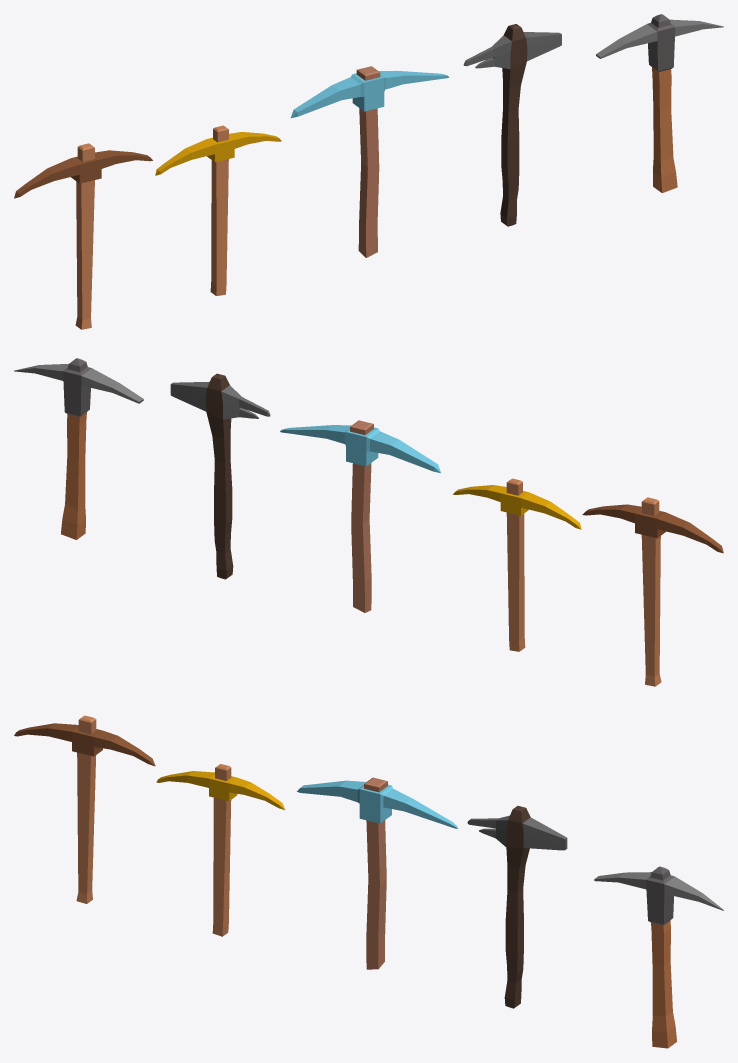
The model's file is Low Poly Pickaxes Pack.fbx.
The picture shows the model from 3 angles, top to bottom: view 1: azimuth 30°, elevation 25°; view 2: azimuth 150°, elevation 25°; view 3: azimuth 330°, elevation 25°; orthographic projection.
Visible parts, largest first — view 1: Pickaxe 5, Pickaxe 2, Pickaxe 1, Pickaxe 3, Pickaxe 4; view 2: Pickaxe 5, Pickaxe 2, Pickaxe 1, Pickaxe 3, Pickaxe 4; view 3: Pickaxe 5, Pickaxe 2, Pickaxe 1, Pickaxe 3, Pickaxe 4.
Part boxes in pixels (x1=…): Pickaxe 5: x1=290, y1=66, x2=449, y2=257; Pickaxe 2: x1=463, y1=24, x2=561, y2=226; Pickaxe 1: x1=596, y1=14, x2=723, y2=193; Pickaxe 3: x1=14, y1=143, x2=152, y2=329; Pickaxe 4: x1=155, y1=125, x2=281, y2=295; Pickaxe 5: x1=280, y1=420, x2=440, y2=612; Pickaxe 2: x1=170, y1=373, x2=270, y2=579; Pickaxe 1: x1=14, y1=358, x2=143, y2=539; Pickaxe 3: x1=582, y1=497, x2=723, y2=686; Pickaxe 4: x1=453, y1=478, x2=581, y2=651; Pickaxe 5: x1=297, y1=777, x2=457, y2=969; Pickaxe 2: x1=467, y1=806, x2=567, y2=1008; Pickaxe 1: x1=594, y1=866, x2=723, y2=1048; Pickaxe 3: x1=14, y1=715, x2=155, y2=903; Pickaxe 4: x1=156, y1=764, x2=284, y2=936.
Bounding box in the file's own units: 656 × 177 × 27.84.
